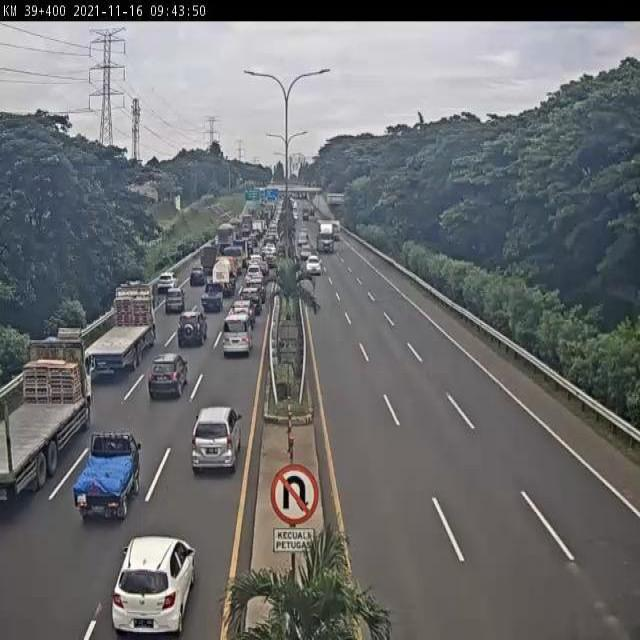car: (113, 535, 195, 637), (75, 434, 144, 526), (192, 407, 245, 476), (148, 353, 188, 403), (223, 314, 253, 354), (176, 314, 207, 349), (199, 283, 223, 316), (230, 300, 254, 333), (240, 287, 262, 313), (164, 291, 186, 317), (155, 272, 177, 293), (248, 277, 268, 299), (189, 265, 206, 287), (246, 265, 264, 284), (307, 257, 320, 272), (248, 254, 264, 266)
small truck: (195, 250, 216, 278), (225, 246, 244, 274)
truck-l-: (0, 338, 93, 493), (84, 285, 156, 371), (316, 221, 332, 251)
truck-m-: (212, 258, 235, 298), (214, 224, 234, 255)
